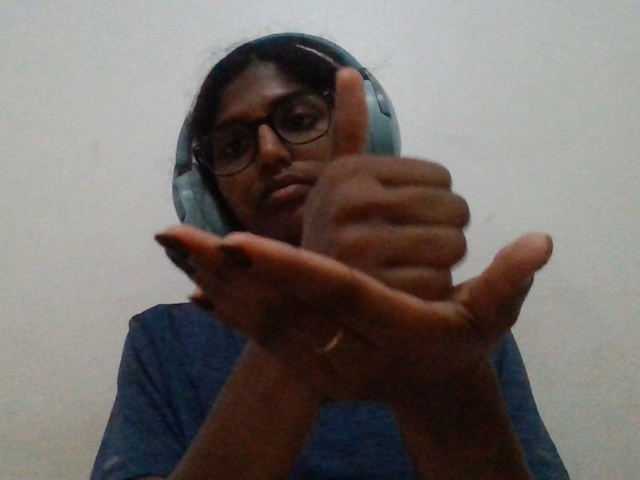Help: (110, 61, 590, 480)
